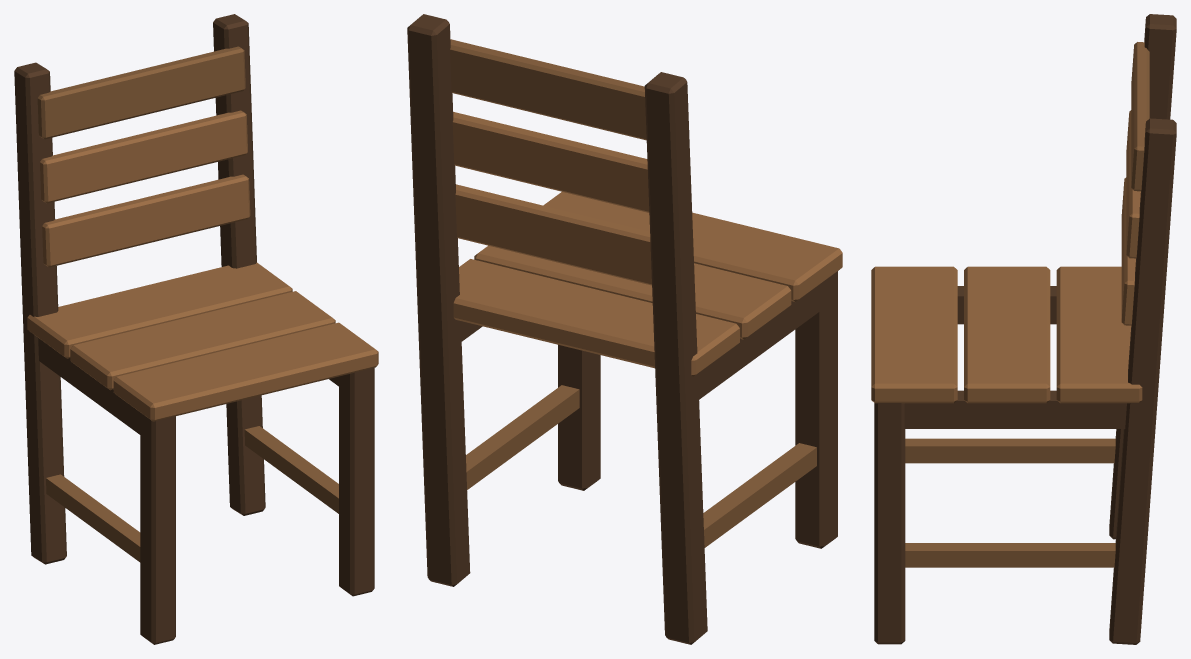
File: GardenChair.fbx
The picture shows the model from 3 angles, left to right: view 1: azimuth 30°, elevation 25°; view 2: azimuth 150°, elevation 25°; view 3: azimuth 270°, elevation 25°; orthographic projection. The views are drawn at different scales.
Parts seen in each view (by area): view 1: GardenChair; view 2: GardenChair; view 3: GardenChair.
Boxes of the visible parts, bbox=[...] form: GardenChair: bbox=[14, 14, 378, 644]; GardenChair: bbox=[407, 14, 842, 644]; GardenChair: bbox=[871, 14, 1176, 644].
Size of the model in its own units: 0.46 by 0.9225 by 0.4946.
Materials: 1 (1 with a texture image).
